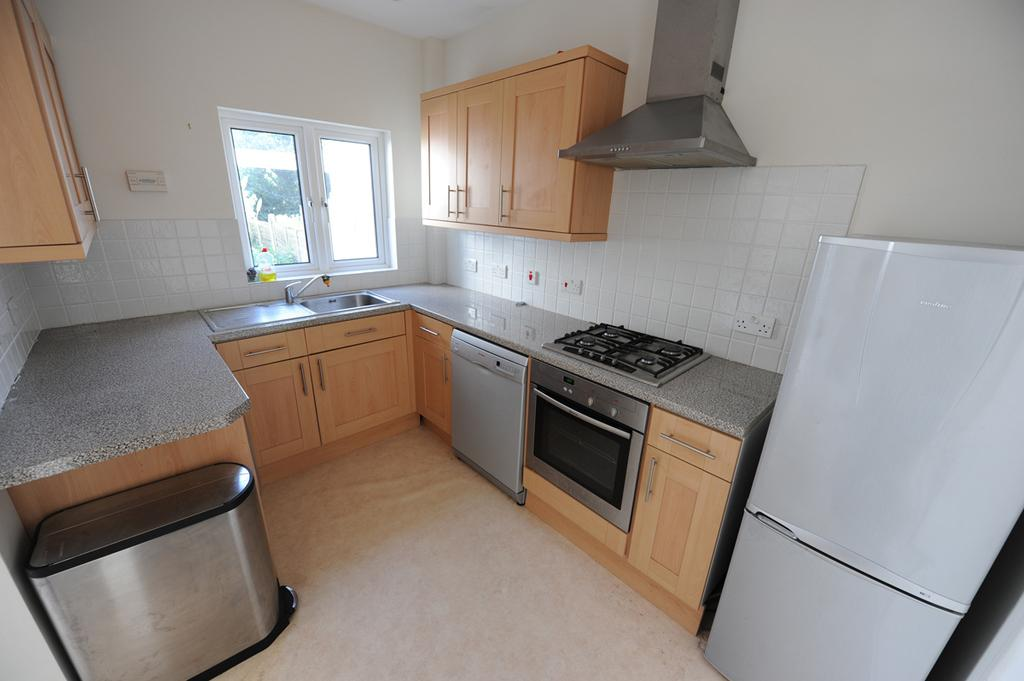cabinet_door: (23, 42, 100, 229), (643, 448, 707, 609), (505, 84, 572, 236), (312, 350, 410, 428), (238, 363, 316, 449), (458, 95, 500, 224), (646, 413, 738, 470), (420, 105, 458, 218), (414, 340, 452, 428), (310, 313, 404, 348), (226, 333, 308, 366), (412, 311, 450, 344)
handle: (534, 387, 638, 438), (75, 166, 104, 230), (660, 430, 718, 461), (748, 510, 802, 543), (493, 181, 519, 224), (291, 360, 313, 400), (242, 340, 290, 358), (342, 320, 384, 340), (642, 457, 660, 503), (311, 358, 328, 394), (452, 186, 470, 218), (418, 324, 444, 344), (442, 186, 456, 218), (435, 360, 451, 387)
